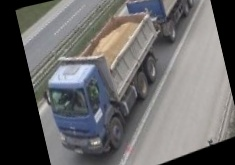truck: (18, 0, 235, 165)
